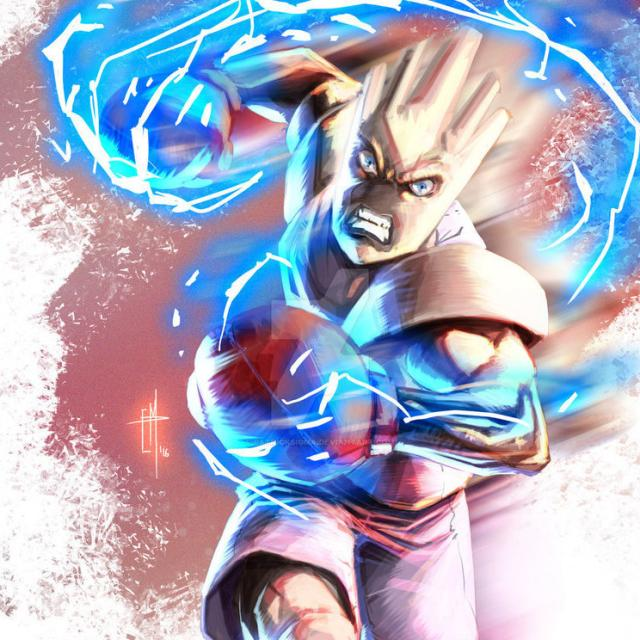Hitmonchan: (174, 15, 554, 539)
